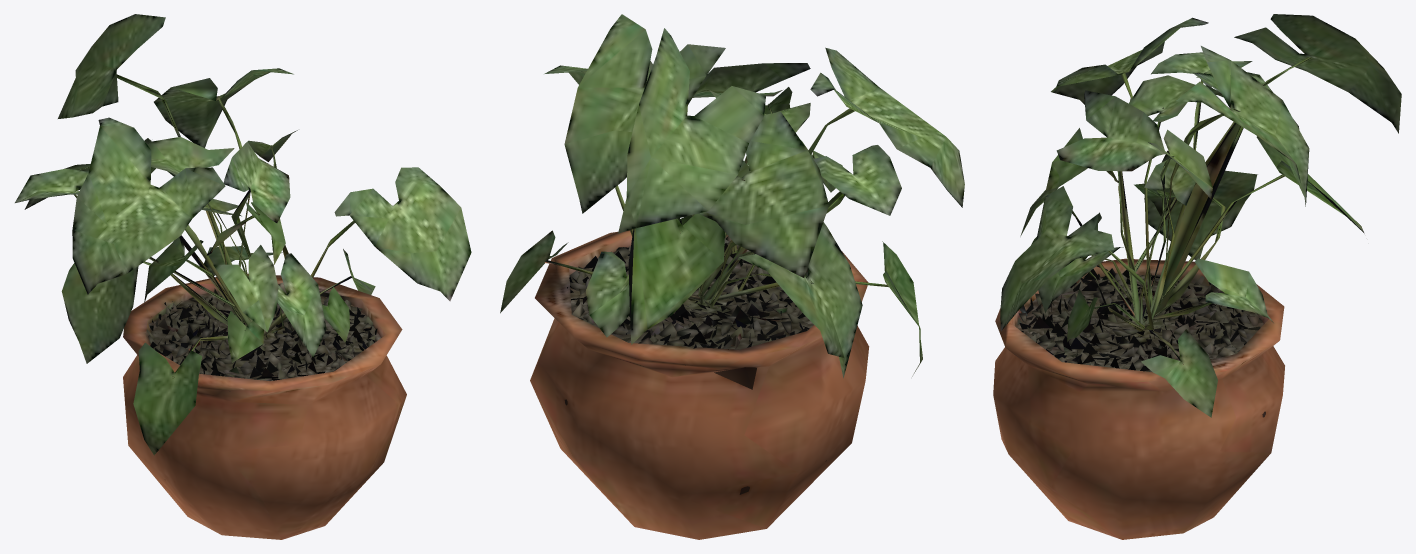
Rendered from plant.glb.
The picture shows the model from 3 angles, left to right: view 1: azimuth 30°, elevation 25°; view 2: azimuth 150°, elevation 25°; view 3: azimuth 270°, elevation 25°; orthographic projection. The views are drawn at different scales.
Visible parts, largest first — view 1: lo; view 2: lo; view 3: lo.
Part boxes in pixels (x1=…): lo: x1=15, y1=14, x2=471, y2=539; lo: x1=500, y1=14, x2=964, y2=539; lo: x1=993, y1=14, x2=1401, y2=539.
Bounding box in the file's own units: 0.6999 × 0.8421 × 0.655.
1 material, 1 textured.
